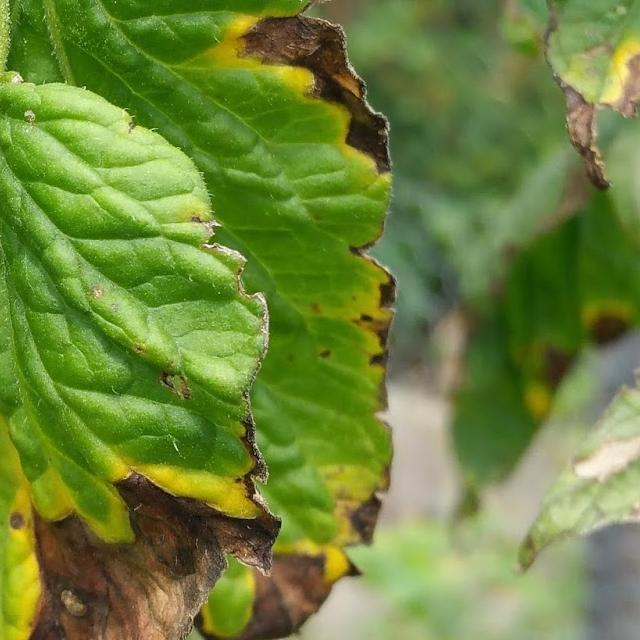Tomato leaf bacterial spot: (0, 0, 442, 640), (0, 9, 280, 640)
